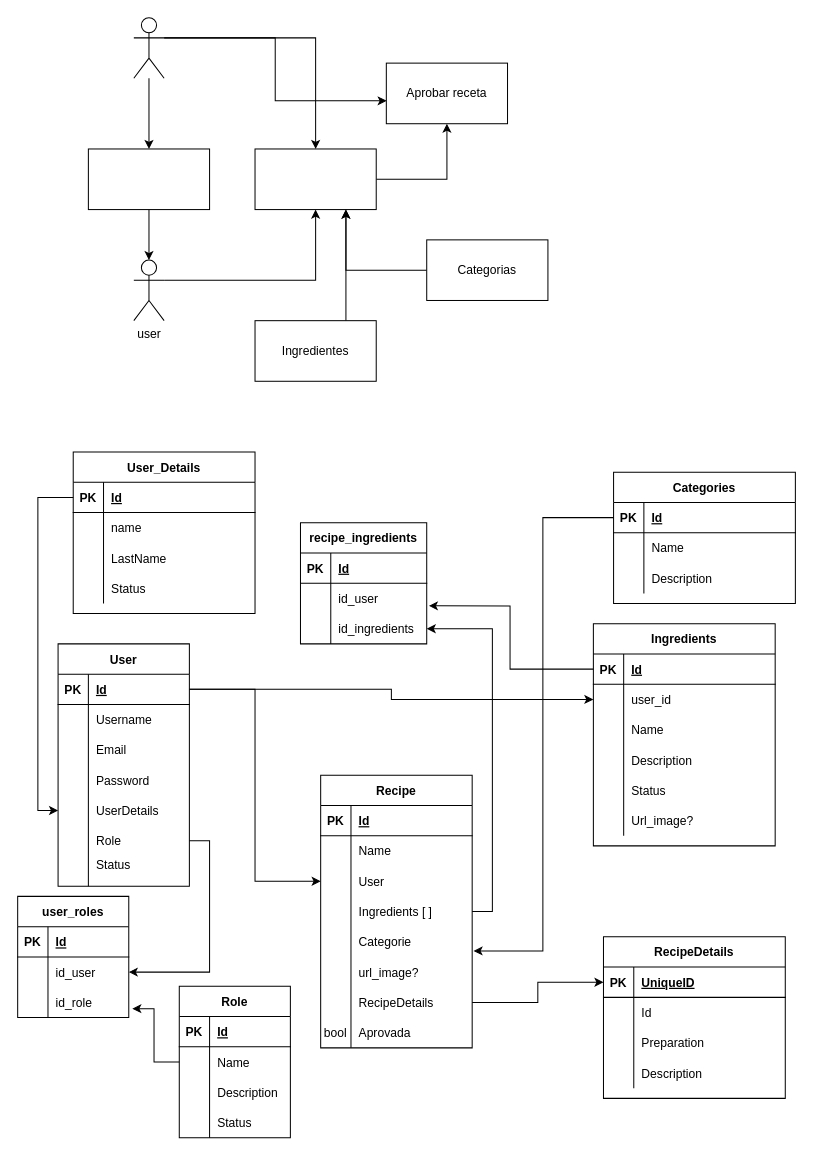
Some shapes in this 813 by 1155 pixel diagram are drawn without their labels. The shapes that lost their labels are listed below. From the top down, each one's centre as x and y in pixels, then its label:
At pixel 148 47: "admin".
At pixel 148 179: "Add User".
At pixel 315 179: "Nueva receta".
